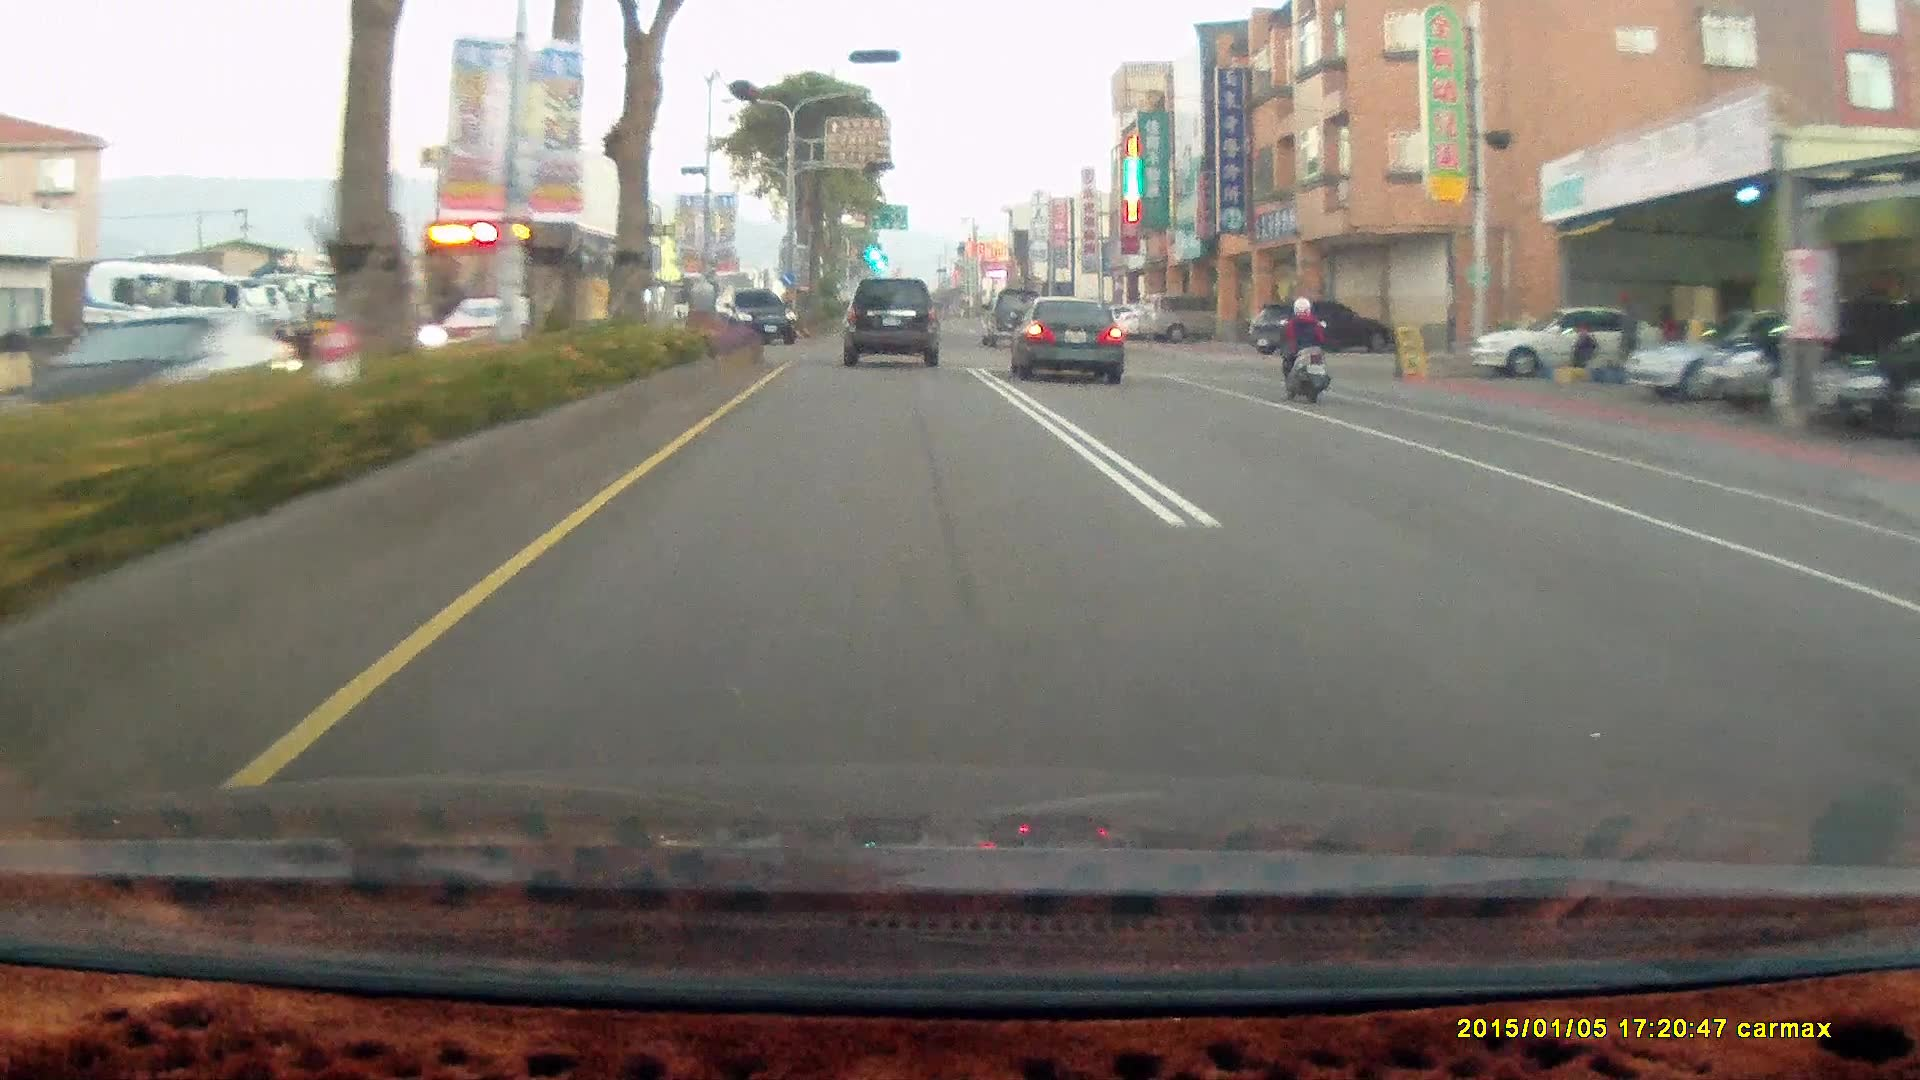pedestrian: (1616, 291, 1642, 380), (1656, 303, 1682, 370), (1569, 323, 1598, 382)
rider: (1265, 285, 1344, 415), (1272, 295, 1330, 402)
vehicle: (398, 212, 659, 364), (24, 303, 301, 439), (420, 211, 651, 363), (22, 304, 285, 411), (1682, 302, 1897, 427), (1697, 299, 1913, 412), (1622, 310, 1868, 406), (1629, 306, 1839, 403), (1457, 303, 1666, 378), (1466, 304, 1667, 378), (1013, 298, 1133, 393), (1002, 292, 1122, 381), (841, 281, 945, 372), (1828, 332, 1920, 434), (841, 276, 940, 367), (1249, 301, 1394, 359), (1247, 301, 1391, 358), (715, 287, 799, 347), (1146, 293, 1242, 343), (714, 287, 798, 343), (1136, 293, 1219, 346), (979, 286, 1044, 345)
